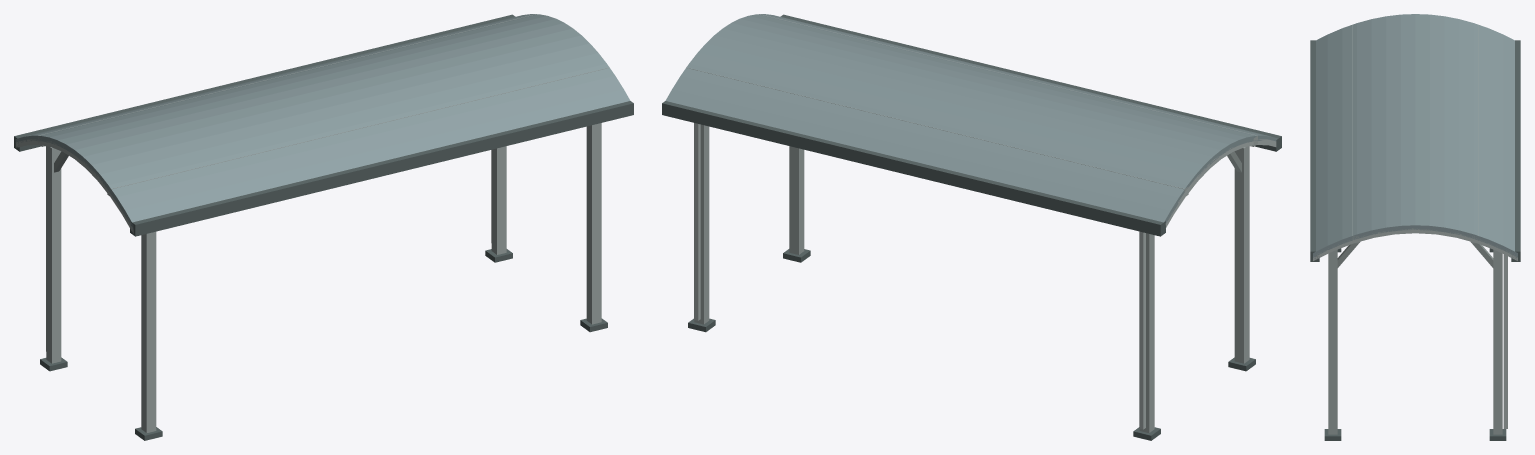
The model's file is sg-covered-walkway.glb.
3 renders of one model, left to right at view 1: azimuth 30°, elevation 25°; view 2: azimuth 150°, elevation 25°; view 3: azimuth 270°, elevation 25°, orthographic. The views are drawn at different scales.
Visible parts, largest first — view 1: curved_roof, edge_gutters, front_columns, rear_columns, longitudinal_purlins, curved_ribs; view 2: curved_roof, edge_gutters, front_columns, rear_columns, downpipes, longitudinal_purlins, curved_ribs; view 3: curved_roof, edge_gutters, front_columns, rear_columns, curved_ribs, downpipes, longitudinal_purlins, knee_braces.
Part boxes in pixels (box(x1,y1,x2,y2)): curved_roof: box(15, 14, 630, 229); edge_gutters: box(14, 14, 633, 236); front_columns: box(135, 123, 607, 440); rear_columns: box(40, 146, 512, 371); longitudinal_purlins: box(38, 14, 609, 196); curved_ribs: box(15, 139, 133, 233); curved_roof: box(665, 14, 1278, 223); edge_gutters: box(662, 14, 1281, 236); front_columns: box(783, 146, 1255, 371); rear_columns: box(688, 124, 1160, 440); downpipes: box(694, 123, 1145, 429); longitudinal_purlins: box(686, 14, 1257, 195); curved_ribs: box(1165, 139, 1276, 227); curved_roof: box(1313, 14, 1517, 257); edge_gutters: box(1310, 40, 1520, 261); front_columns: box(1324, 248, 1341, 440); rear_columns: box(1489, 248, 1506, 440); curved_ribs: box(1313, 228, 1517, 260); downpipes: box(1503, 254, 1507, 428); longitudinal_purlins: box(1352, 25, 1478, 243); knee_braces: box(1337, 242, 1493, 267).
Size of the model in its own units: 6 by 2.95 by 2.53.
